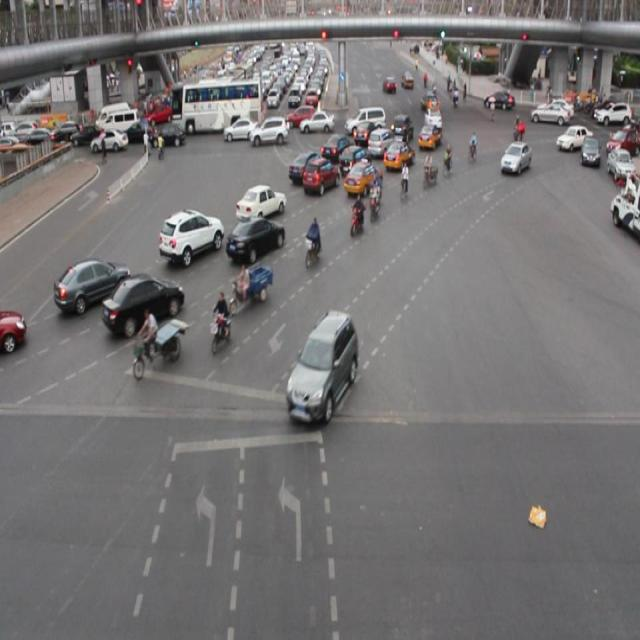car: (286, 313, 356, 419), (104, 274, 183, 329), (56, 258, 130, 309), (158, 206, 223, 259), (226, 214, 284, 262), (234, 183, 286, 221), (1, 305, 29, 354), (344, 160, 382, 196), (302, 158, 339, 194), (288, 149, 321, 183), (337, 144, 370, 177), (500, 140, 529, 175), (382, 138, 413, 170), (366, 126, 396, 156), (322, 133, 349, 159), (416, 124, 439, 151)
